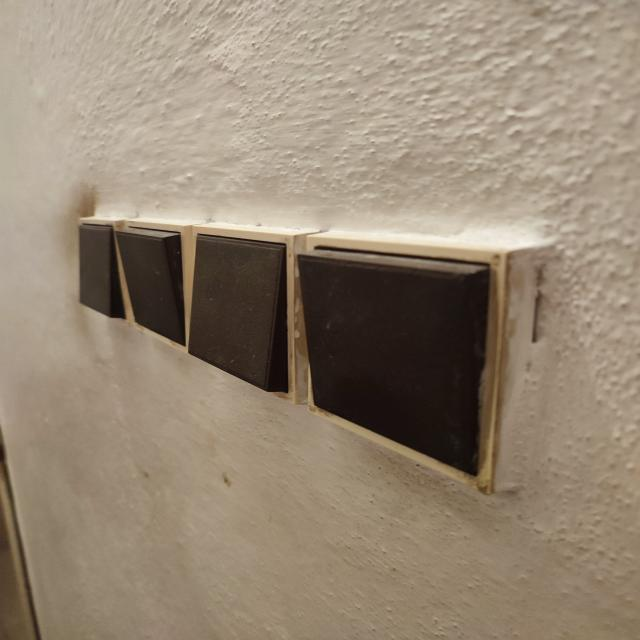house switch: (297, 231, 541, 495), (188, 222, 320, 404), (115, 217, 204, 353), (78, 216, 131, 321)
